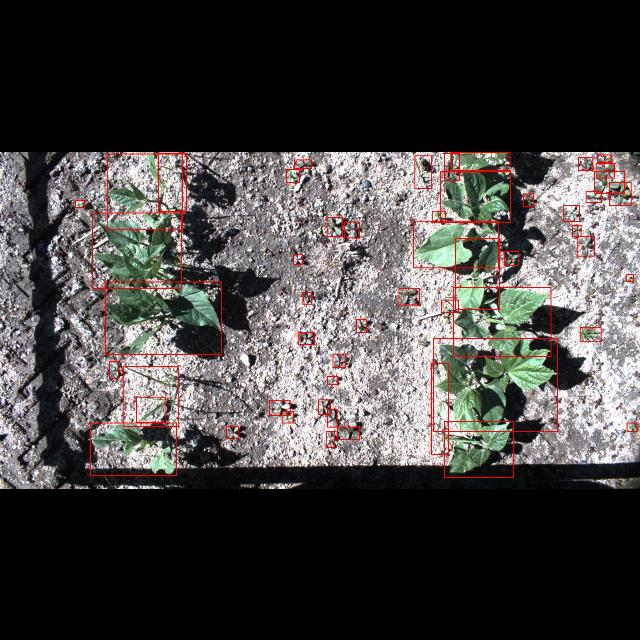crop: (433, 338, 557, 430), (105, 280, 221, 354), (453, 286, 551, 356), (92, 212, 182, 288), (108, 153, 182, 229), (90, 422, 176, 476), (413, 220, 499, 268), (444, 421, 514, 477), (440, 170, 510, 222), (454, 238, 500, 308), (450, 151, 510, 169)
weed: (122, 366, 178, 426), (431, 363, 449, 455), (159, 152, 187, 210), (136, 396, 166, 422), (594, 170, 624, 192), (414, 154, 432, 188), (610, 182, 630, 204), (444, 153, 460, 180), (398, 288, 419, 304), (270, 400, 290, 416), (578, 235, 594, 255), (327, 217, 343, 236), (596, 162, 614, 178), (337, 426, 359, 439), (580, 327, 600, 341), (344, 221, 360, 237), (564, 205, 578, 221), (504, 251, 518, 265), (286, 168, 300, 182), (332, 353, 346, 367), (579, 156, 593, 170), (442, 299, 458, 311), (586, 190, 602, 202), (298, 332, 314, 344), (294, 158, 312, 168), (109, 360, 119, 378), (327, 409, 337, 427), (318, 400, 330, 414), (432, 210, 446, 222), (227, 426, 239, 438), (357, 318, 367, 332), (523, 192, 533, 205), (326, 431, 334, 447), (282, 412, 294, 422), (572, 224, 582, 236), (302, 292, 312, 304), (597, 154, 611, 162), (627, 422, 637, 432), (294, 254, 302, 264), (327, 376, 337, 384), (76, 199, 84, 207), (626, 274, 634, 280)
